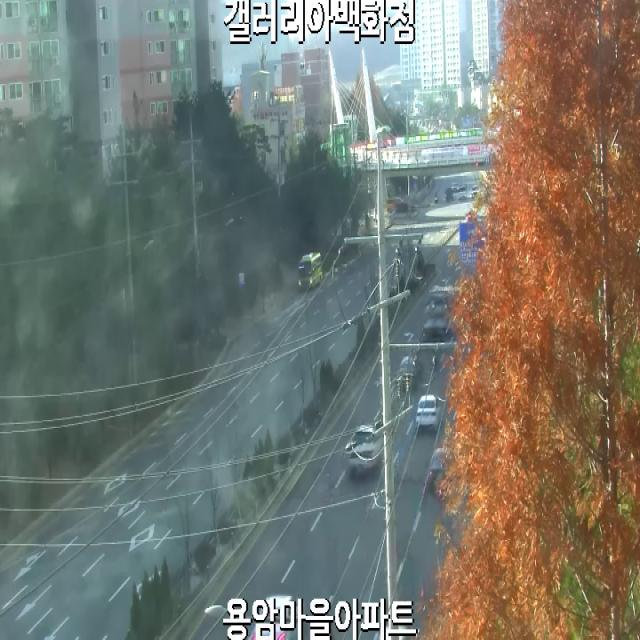Bus: (298, 251, 323, 290)
Car: (348, 419, 384, 471), (416, 395, 442, 430)
